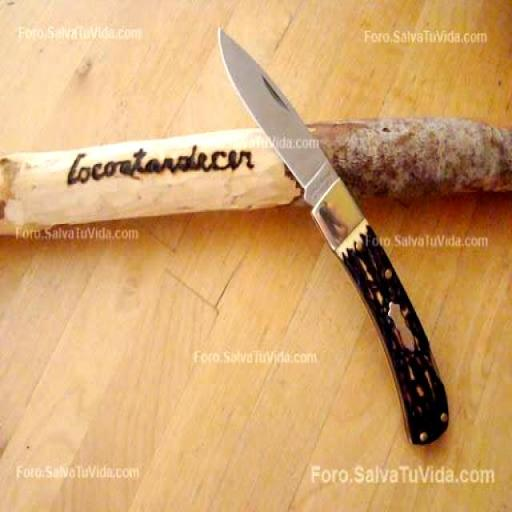knife: (220, 30, 449, 442)
